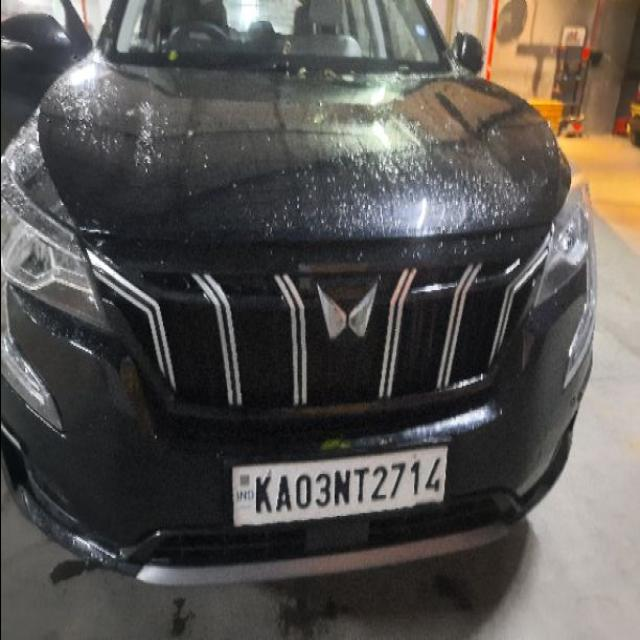license_plate: (229, 442, 449, 528)
